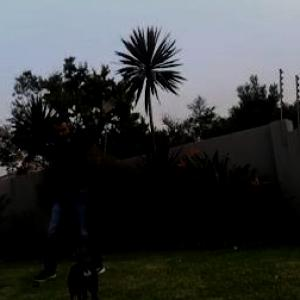takeoff: (5, 93, 110, 282)
